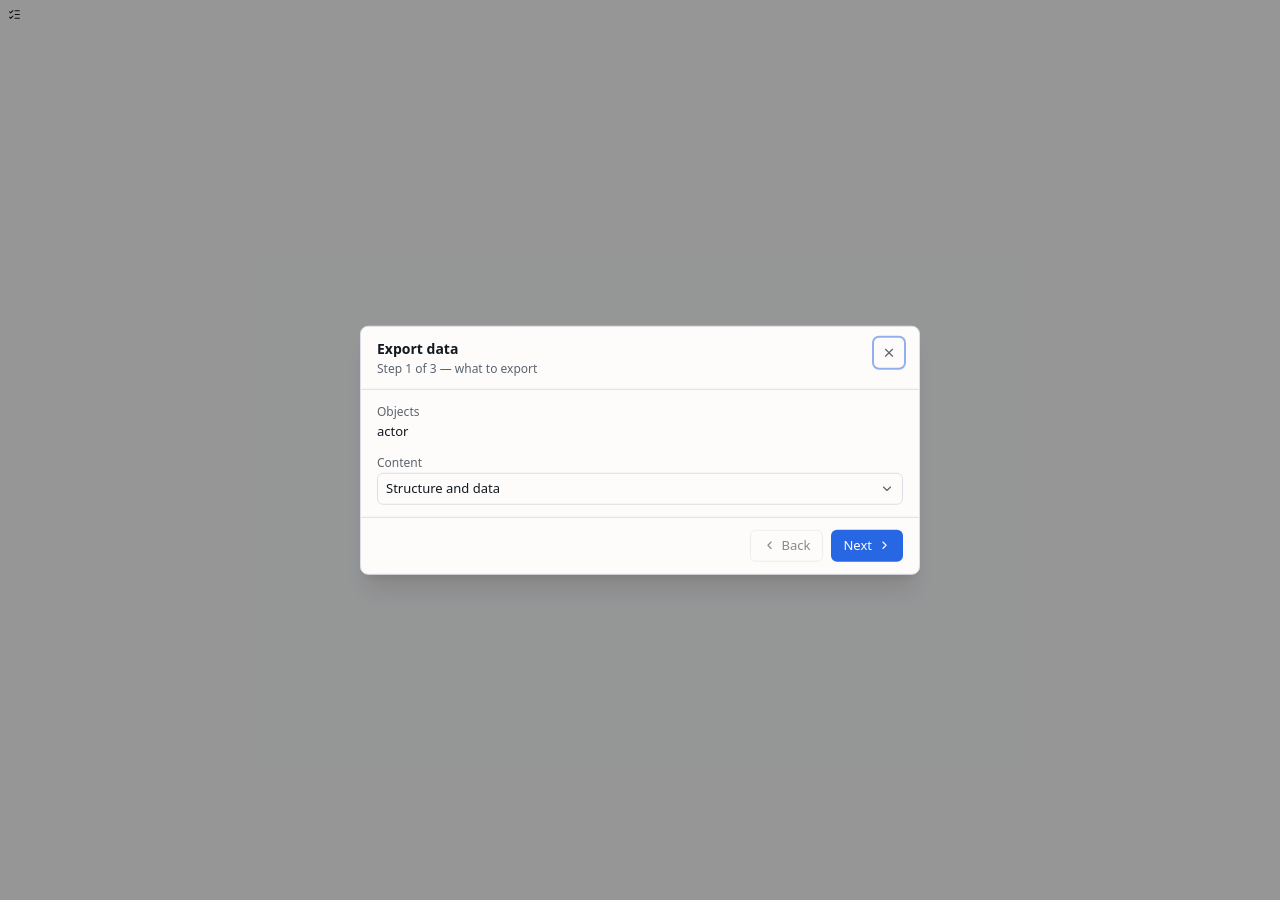
Test case: ExportWizard › runs end to end through openExport and the job center
Expected: the button with test id "jobs-indicator" is shown, [0,0,29,28]
Click the button "Next": (867, 545) [832,529,903,561]
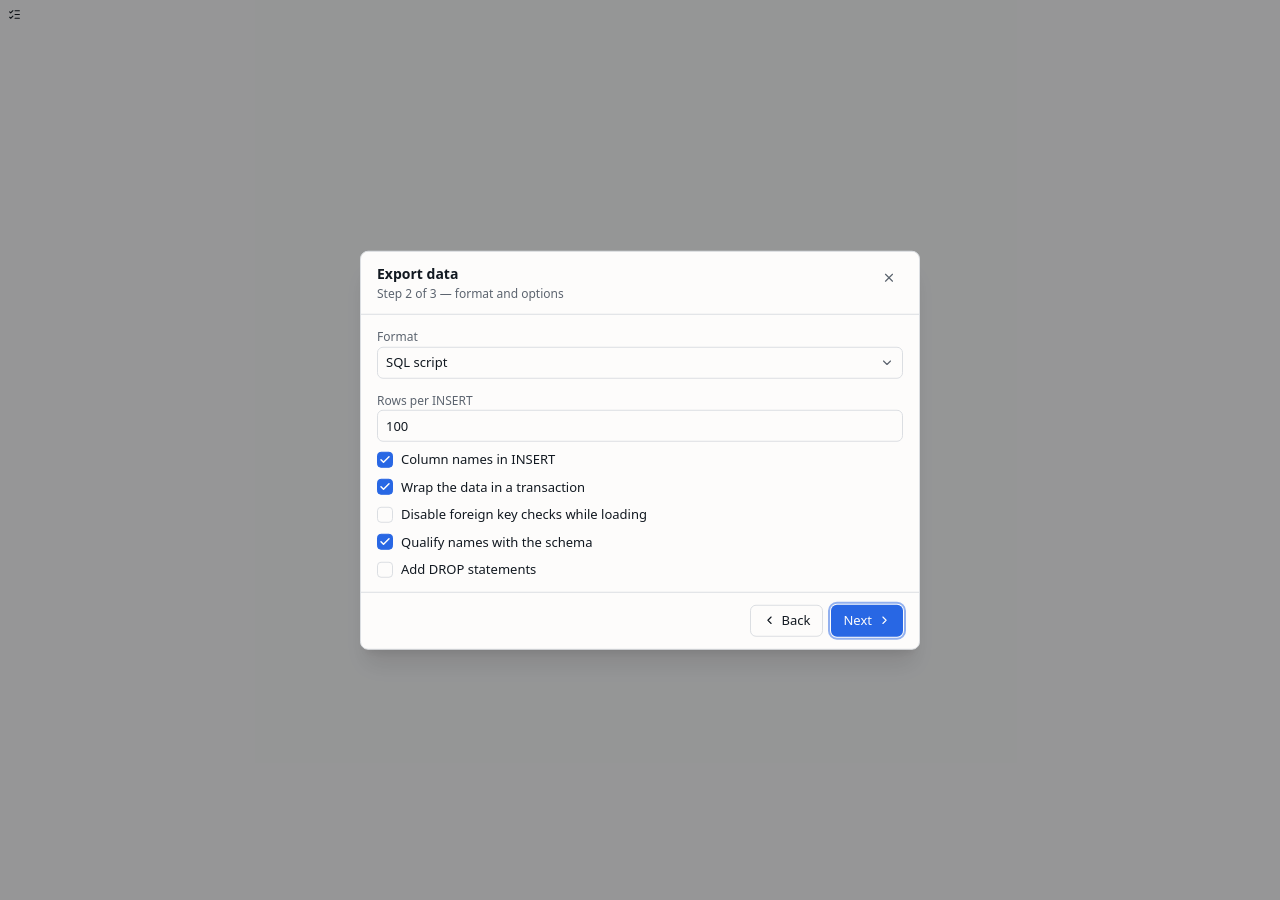
Click the button "Next": (867, 620) [832,604,903,636]
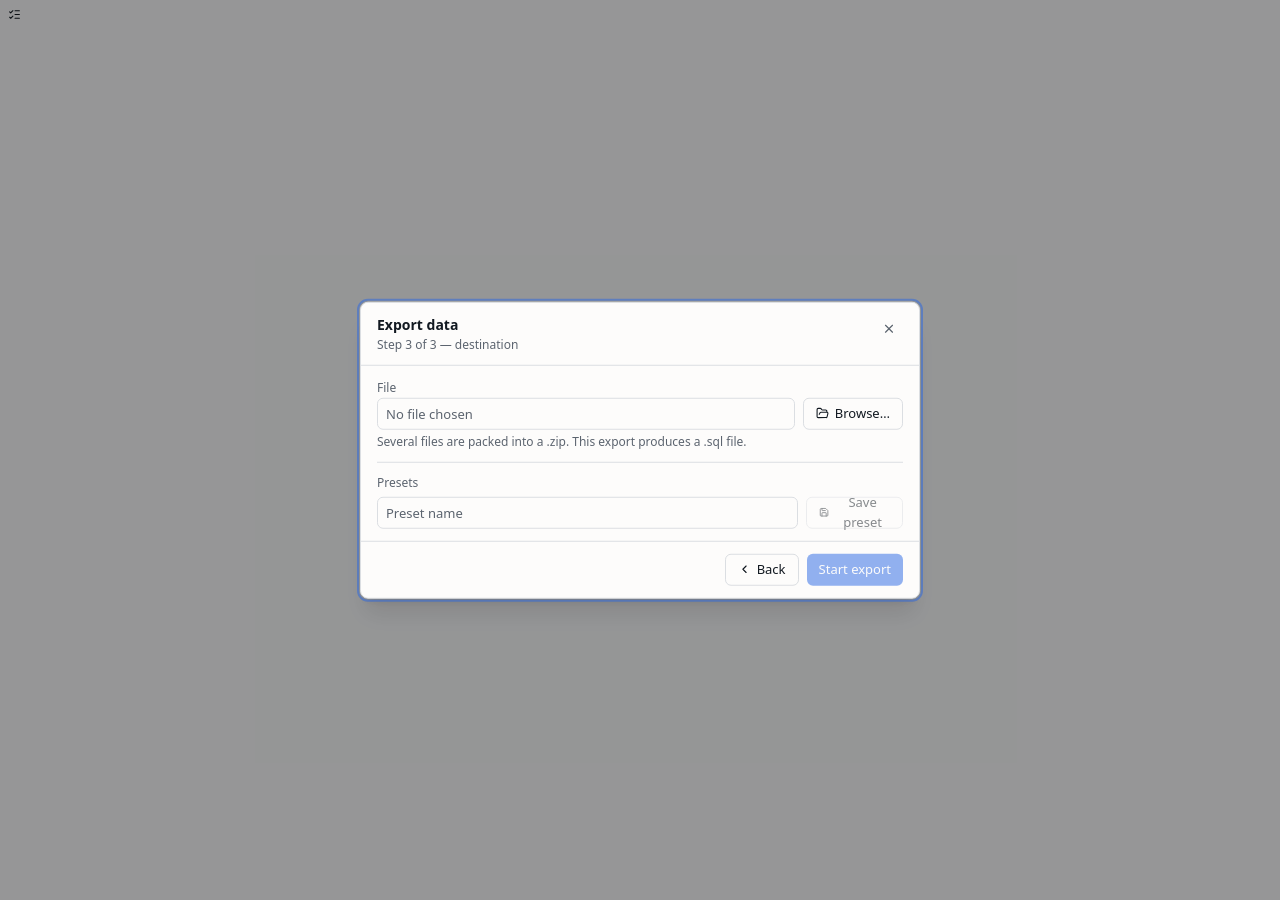
Click the button "Browse…": (853, 413) [803,397,903,429]
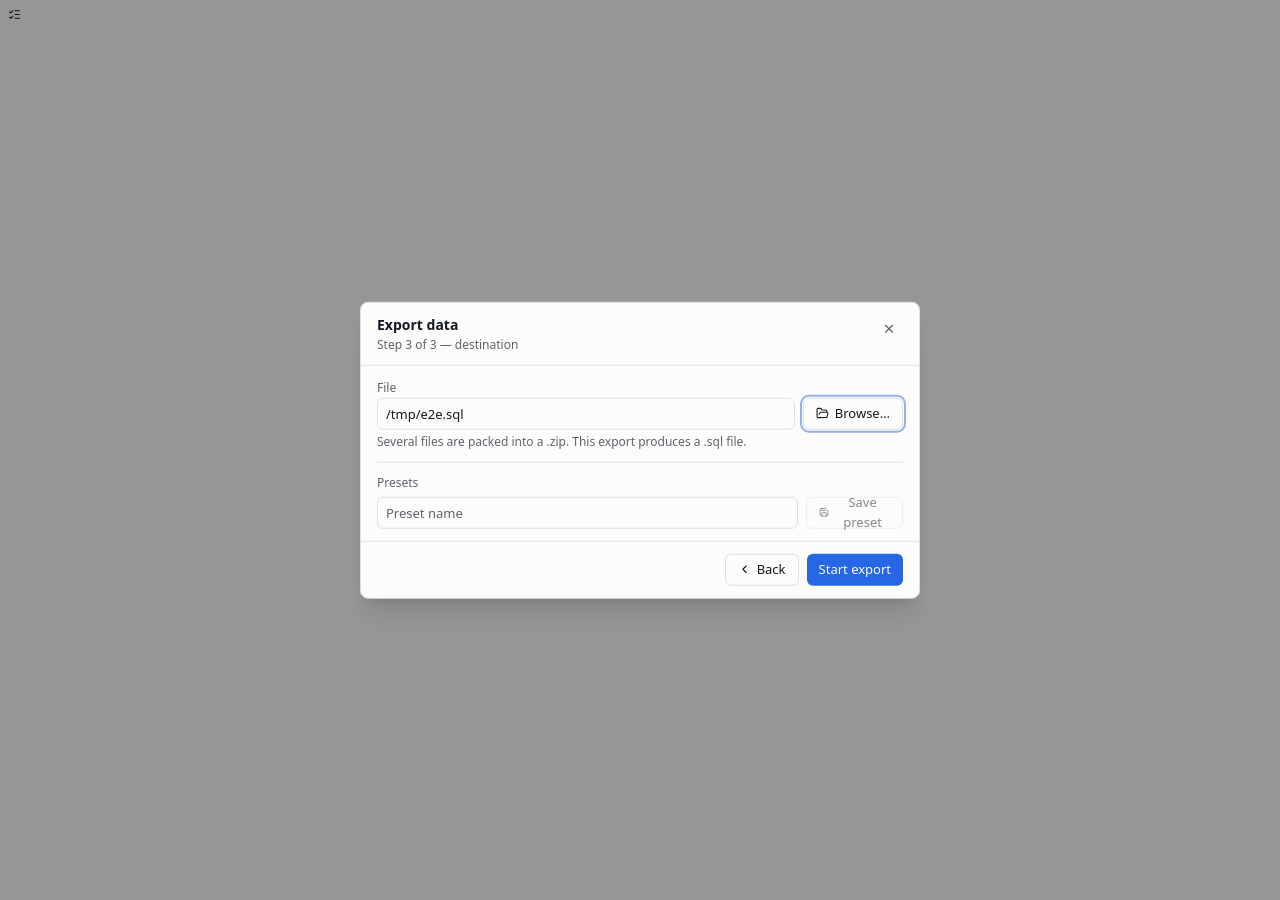
Click the button "Start export": (855, 569) [807,553,903,585]
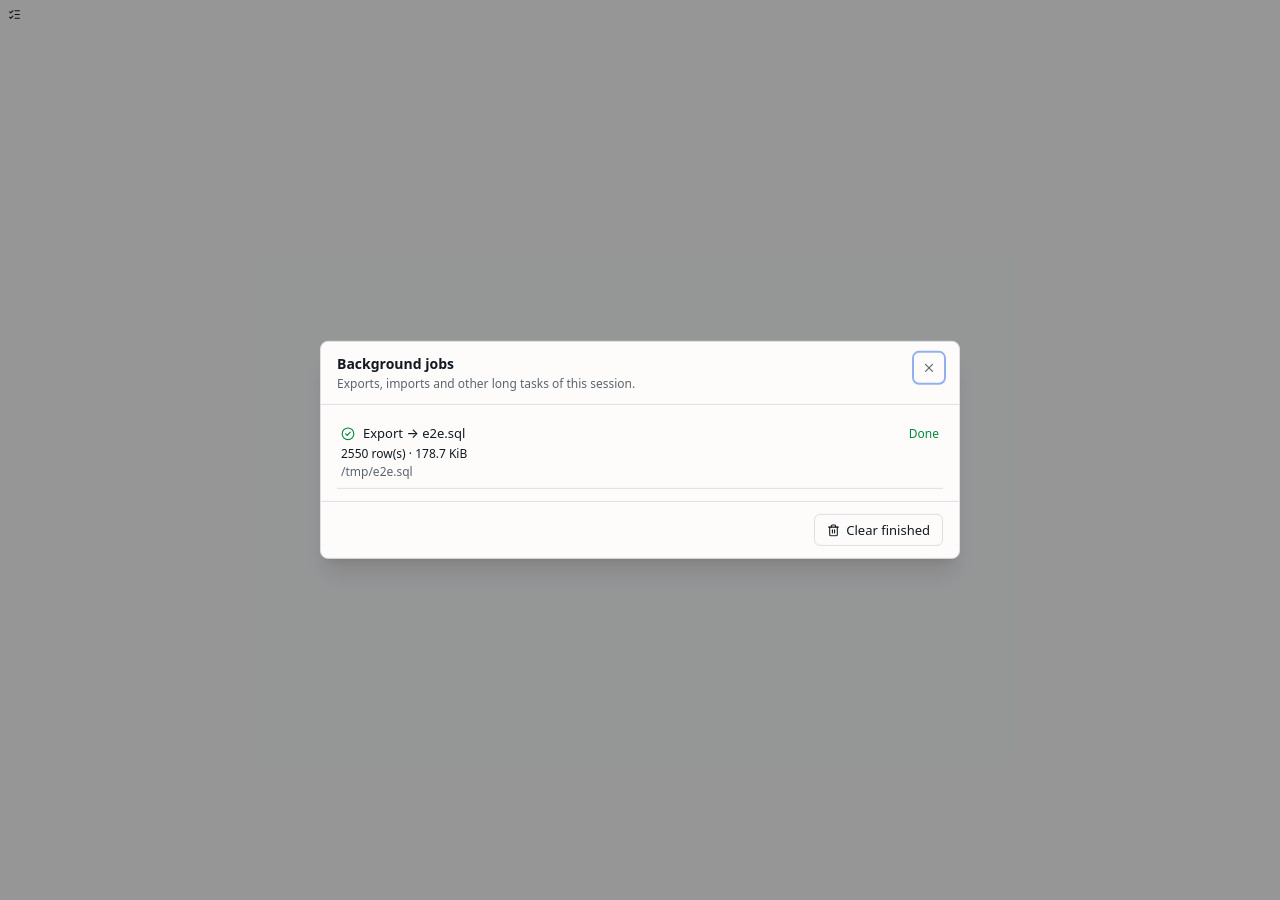
Result: the text with test id "job-status" reads "Done" at [909,424,939,442]
Result: the list item with test id "^job-[0-9a-f-]{36}$" shows "2550 row(s)" at [341,445,467,462]
Result: the list item with test id "^job-[0-9a-f-]{36}$" shows "/tmp/e2e.sql" at [341,463,413,480]
